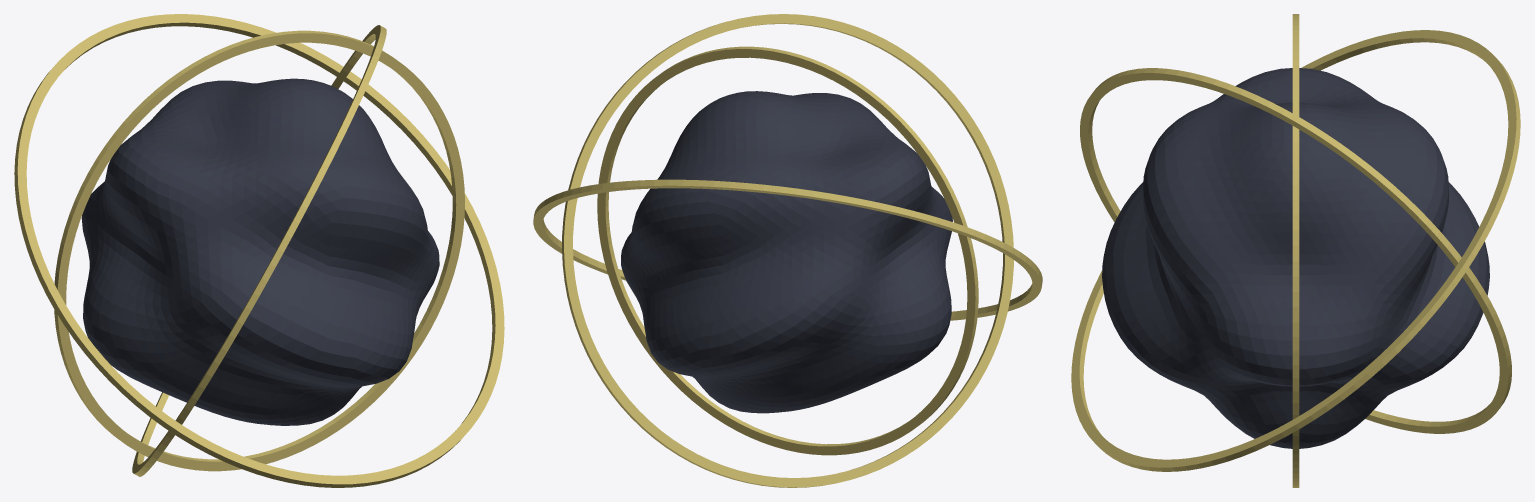
File: gpu-artifact.glb
The picture shows the model from 3 angles, left to right: view 1: azimuth 30°, elevation 25°; view 2: azimuth 150°, elevation 25°; view 3: azimuth 270°, elevation 25°; orthographic projection. The views are drawn at different scales.
Parts seen in each view (by area): view 1: vision-gesture-control_obsidian_core, vision-gesture-control_orbital_ring_2, vision-gesture-control_orbital_ring_0, vision-gesture-control_orbital_ring_1; view 2: vision-gesture-control_obsidian_core, vision-gesture-control_orbital_ring_1, vision-gesture-control_orbital_ring_0, vision-gesture-control_orbital_ring_2; view 3: vision-gesture-control_obsidian_core, vision-gesture-control_orbital_ring_2, vision-gesture-control_orbital_ring_1, vision-gesture-control_orbital_ring_0.
Part boxes in pixels (box(x1,y1,x2,y2)): vision-gesture-control_obsidian_core: box(81, 78, 439, 425); vision-gesture-control_orbital_ring_2: box(14, 14, 504, 487); vision-gesture-control_orbital_ring_0: box(54, 30, 464, 471); vision-gesture-control_orbital_ring_1: box(132, 25, 386, 476); vision-gesture-control_obsidian_core: box(621, 91, 952, 413); vision-gesture-control_orbital_ring_1: box(562, 14, 1013, 487); vision-gesture-control_orbital_ring_0: box(597, 46, 978, 455); vision-gesture-control_orbital_ring_2: box(533, 179, 1042, 320); vision-gesture-control_obsidian_core: box(1102, 68, 1489, 448); vision-gesture-control_orbital_ring_2: box(1071, 30, 1520, 471); vision-gesture-control_orbital_ring_1: box(1080, 68, 1511, 433); vision-gesture-control_orbital_ring_0: box(1292, 14, 1299, 487).
Size of the model in its own units: 3.18 by 2.76 by 2.62.
